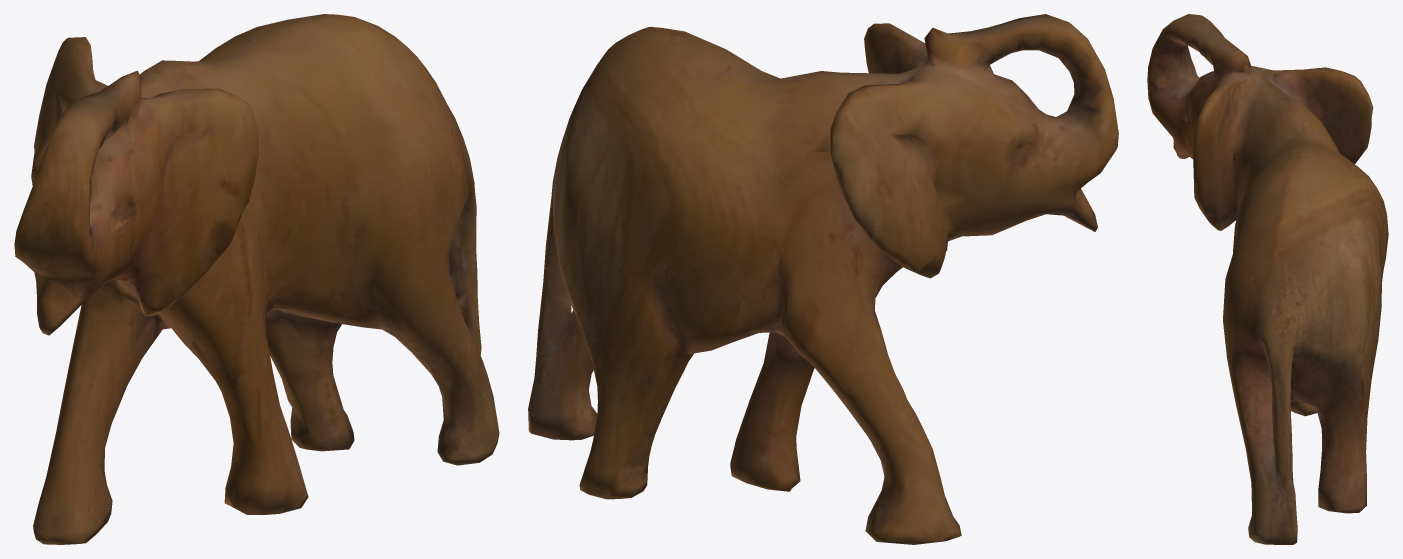
File: carved_wooden_elephant.glb
3 views of the same model, side by side, from view 1: azimuth 30°, elevation 25°; view 2: azimuth 150°, elevation 25°; view 3: azimuth 270°, elevation 25° (orthographic). The views are drawn at different scales.
Parts seen in each view (by area): view 1: carved_wooden_elephant; view 2: carved_wooden_elephant; view 3: carved_wooden_elephant.
Part boxes in pixels (x1,y1,x2,y2): carved_wooden_elephant: [14, 14, 499, 544]; carved_wooden_elephant: [528, 14, 1118, 544]; carved_wooden_elephant: [1147, 14, 1388, 544].
Size of the model in its own units: 0.1092 by 0.0961 by 0.0576.
Materials: 1 (1 with a texture image).
